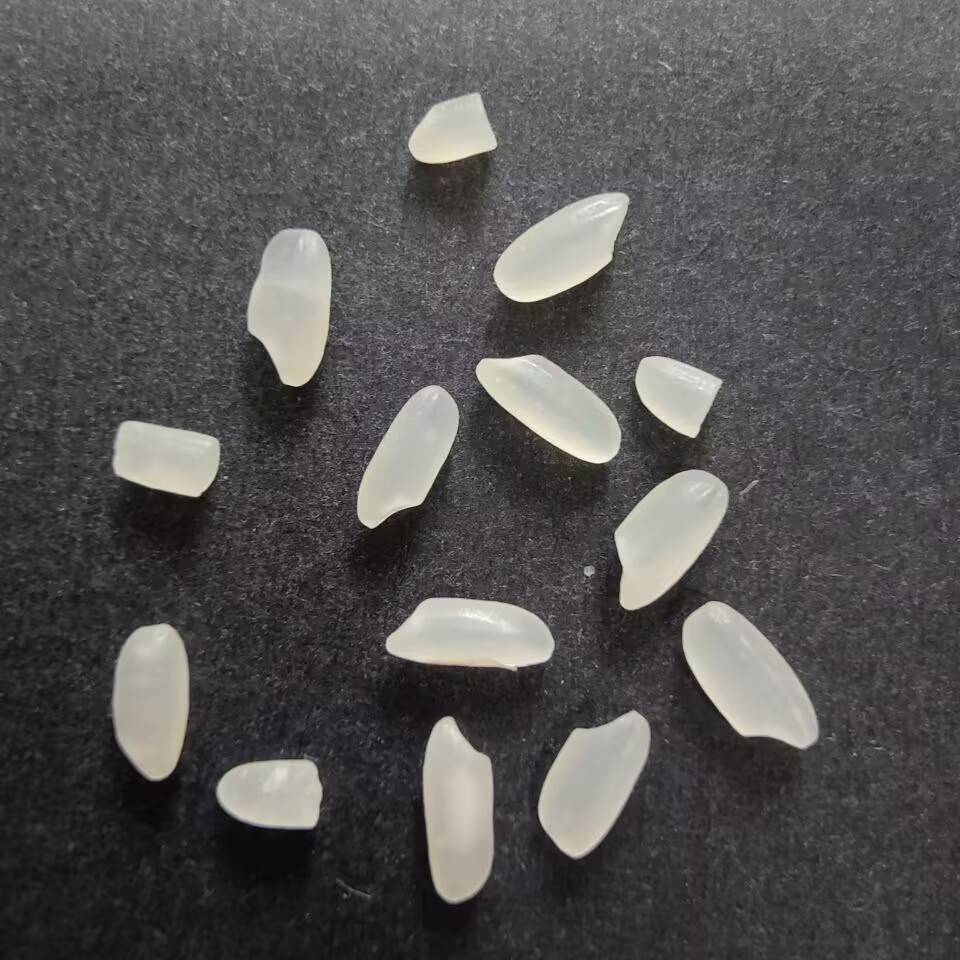broken: (109, 416, 222, 498), (214, 754, 323, 835), (631, 352, 727, 442), (403, 87, 498, 168)
rice: (679, 598, 823, 750), (612, 467, 732, 613), (472, 352, 625, 466), (537, 708, 651, 859), (491, 189, 633, 304), (352, 382, 459, 532), (420, 711, 502, 906), (242, 225, 336, 390), (379, 596, 559, 673), (113, 621, 190, 784)
